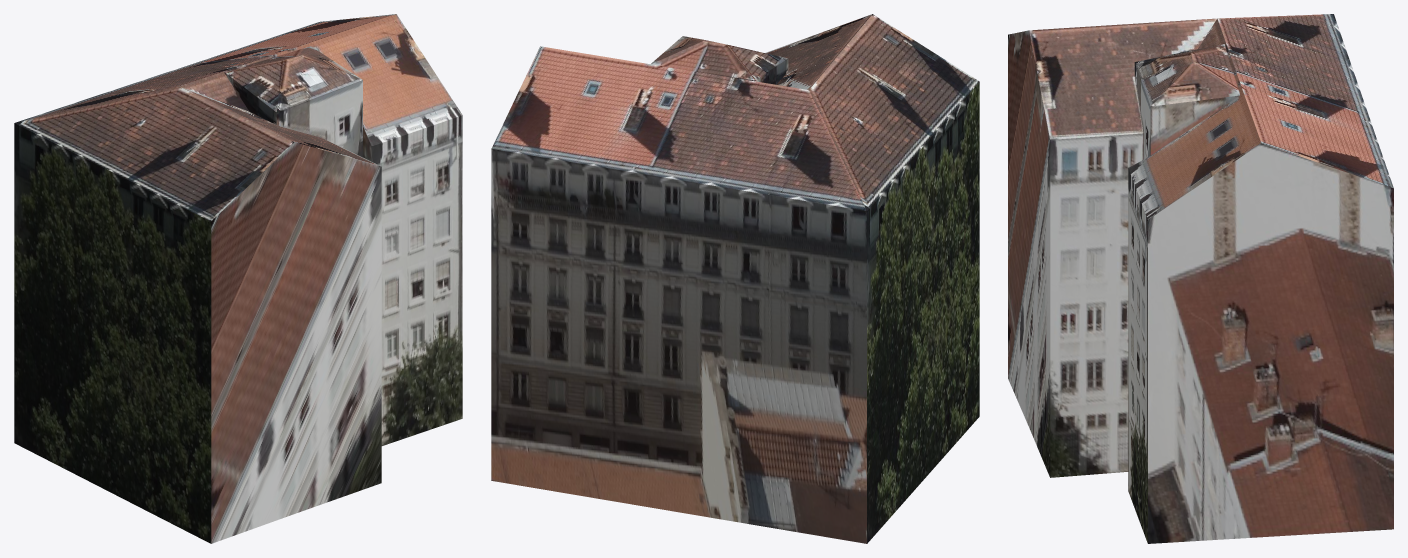
The picture shows the model from 3 angles, left to right: view 1: azimuth 30°, elevation 25°; view 2: azimuth 150°, elevation 25°; view 3: azimuth 270°, elevation 25°; orthographic projection. The views are drawn at different scales.
Parts seen in each view (by area): view 1: Z_UP; view 2: Z_UP; view 3: Z_UP.
Boxes of the visible parts, box(x1,y1,x2,y2) form: Z_UP: box(14, 14, 462, 543); Z_UP: box(491, 14, 979, 543); Z_UP: box(1008, 14, 1393, 543).
Size of the model in its own units: 27.77 by 28.07 by 24.04.
Materials: 2 (1 with a texture image).
